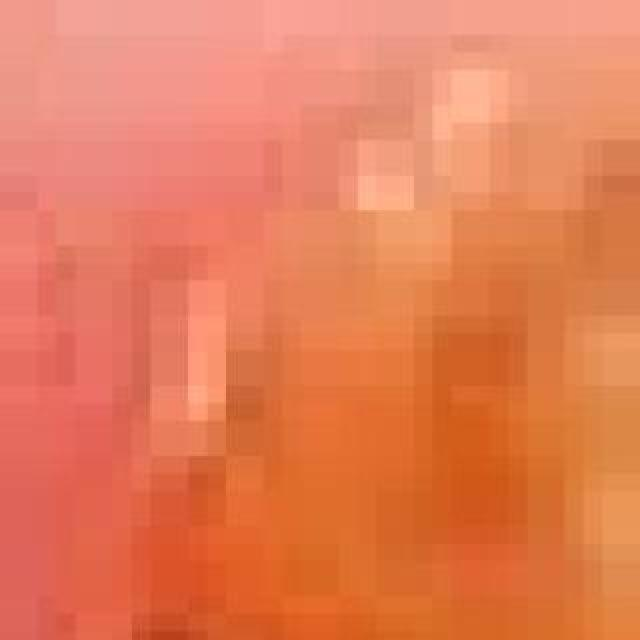cavities: (56, 84, 640, 640)
